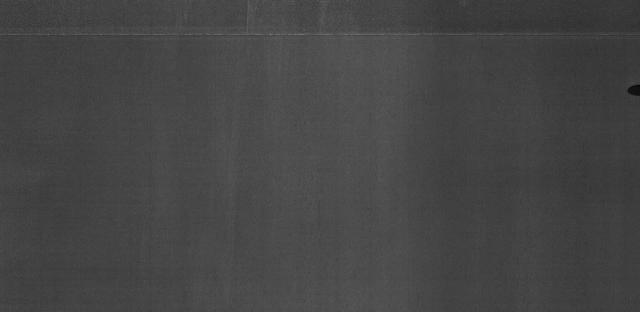welding_line: (1, 26, 640, 48)
